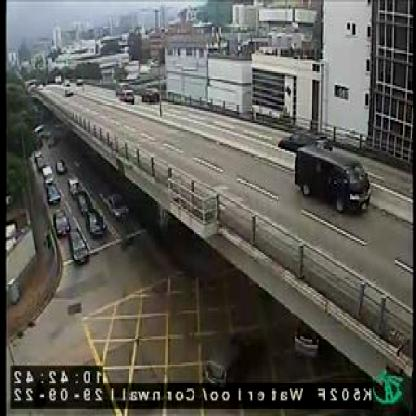Car: (293, 144, 377, 220), (278, 125, 334, 161), (69, 227, 95, 269), (85, 208, 109, 239), (53, 206, 73, 239), (107, 191, 130, 218), (139, 85, 165, 104), (78, 187, 92, 213), (46, 182, 64, 201), (113, 78, 130, 97), (69, 175, 83, 194), (122, 88, 137, 102), (58, 156, 66, 173), (64, 85, 75, 95)
Truck: (39, 161, 55, 184)
